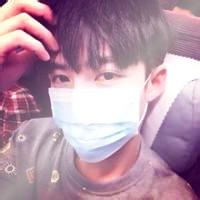face_mask: (45, 27, 144, 158)
